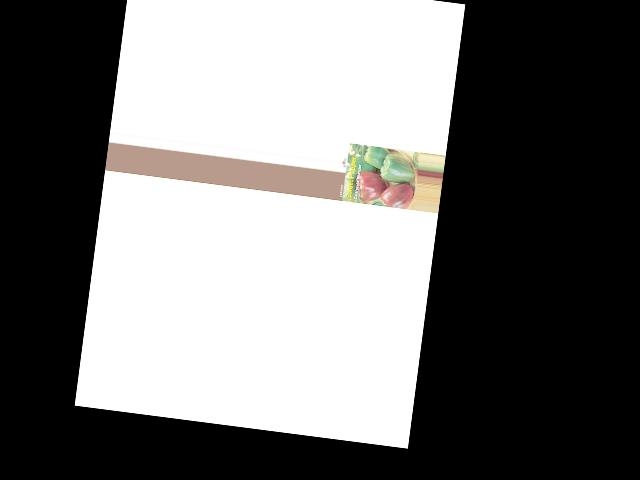bell_pepper: (361, 143, 394, 167)
